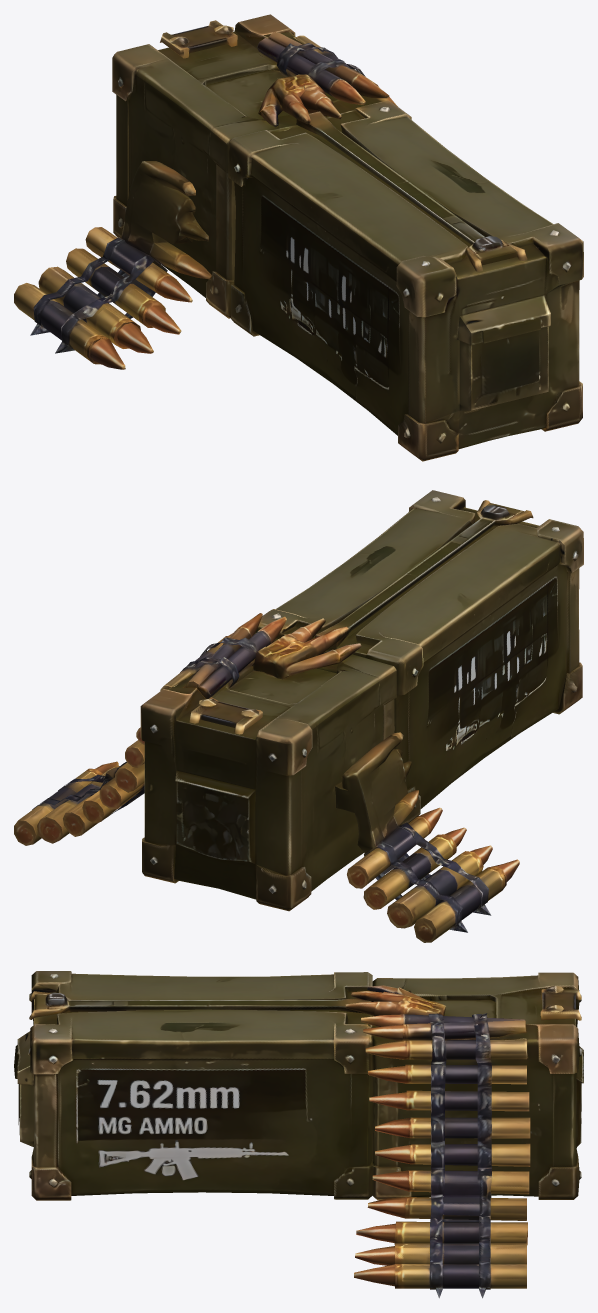
The model's file is base_basic_pbr.glb.
3 views of the same model, one above another, from view 1: azimuth 30°, elevation 25°; view 2: azimuth 150°, elevation 25°; view 3: azimuth 270°, elevation 25° (orthographic). The views are drawn at different scales.
Visible parts, largest first — view 1: model; view 2: model; view 3: model.
Part boxes in pixels (x1=…): model: x1=14, y1=14, x2=583, y2=461; model: x1=14, y1=490, x2=583, y2=942; model: x1=14, y1=971, x2=583, y2=1298.
Bounding box in the file's own units: 0.648 × 0.3 × 0.7806.
Materials: 1 (1 with a texture image).
